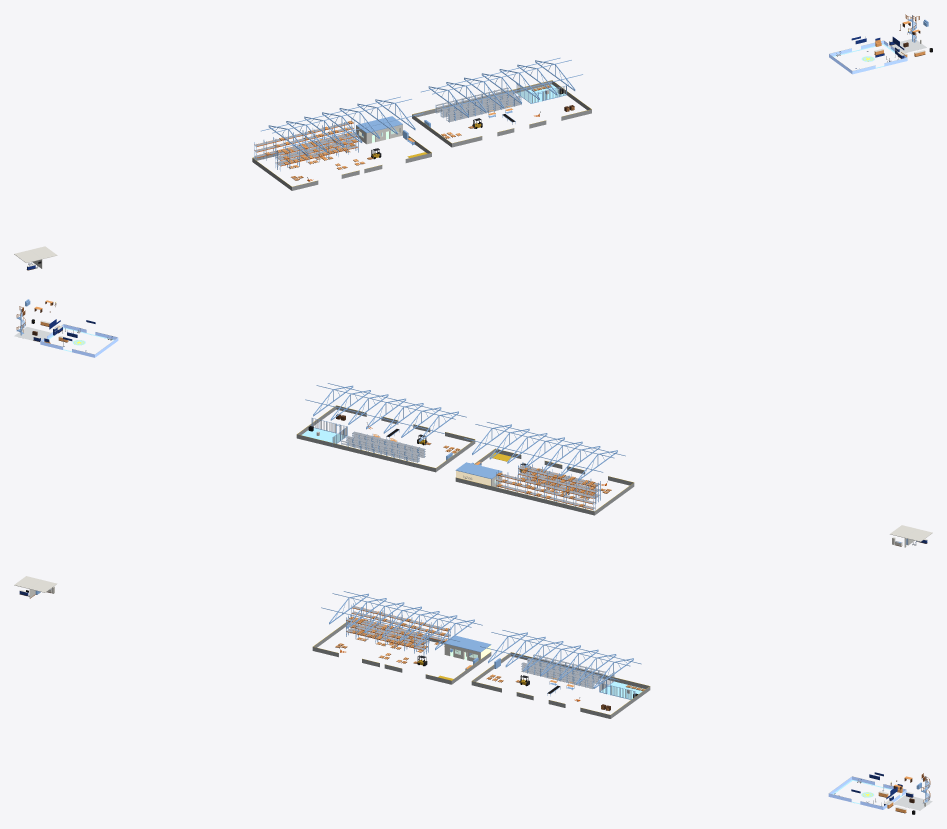
Rendered from SM_Harbor_Interior.fbx.
3 views of the same model, one above another, from view 1: azimuth 30°, elevation 25°; view 2: azimuth 150°, elevation 25°; view 3: azimuth 330°, elevation 25° (orthographic).
Parts seen in each view (by area): view 1: SM_Harbor_Interior; view 2: SM_Harbor_Interior; view 3: SM_Harbor_Interior.
Part boxes in pixels (x1,y1,x2,y2): SM_Harbor_Interior: (14,14,932,270); SM_Harbor_Interior: (14,299,932,547); SM_Harbor_Interior: (14,576,932,814).
Bounding box in the file's own units: 255 × 11.7 × 29.49.
